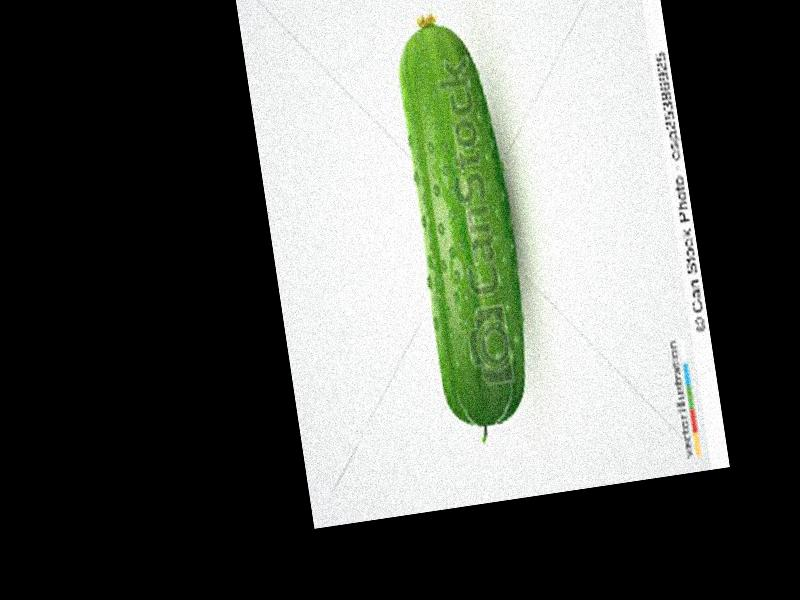Cucumber: (386, 5, 542, 448)
